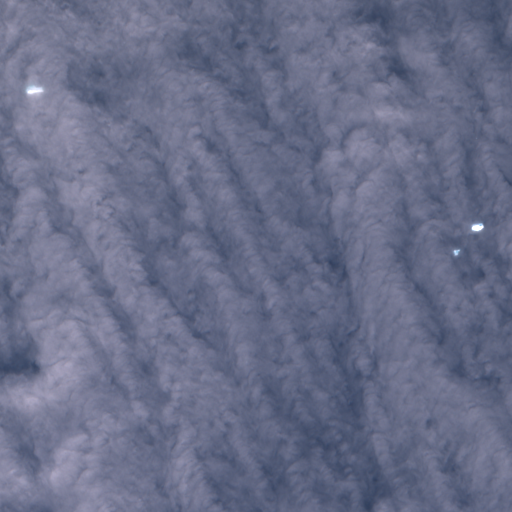Iceberg: (26, 87, 43, 93), (471, 223, 483, 230), (454, 249, 460, 255)
